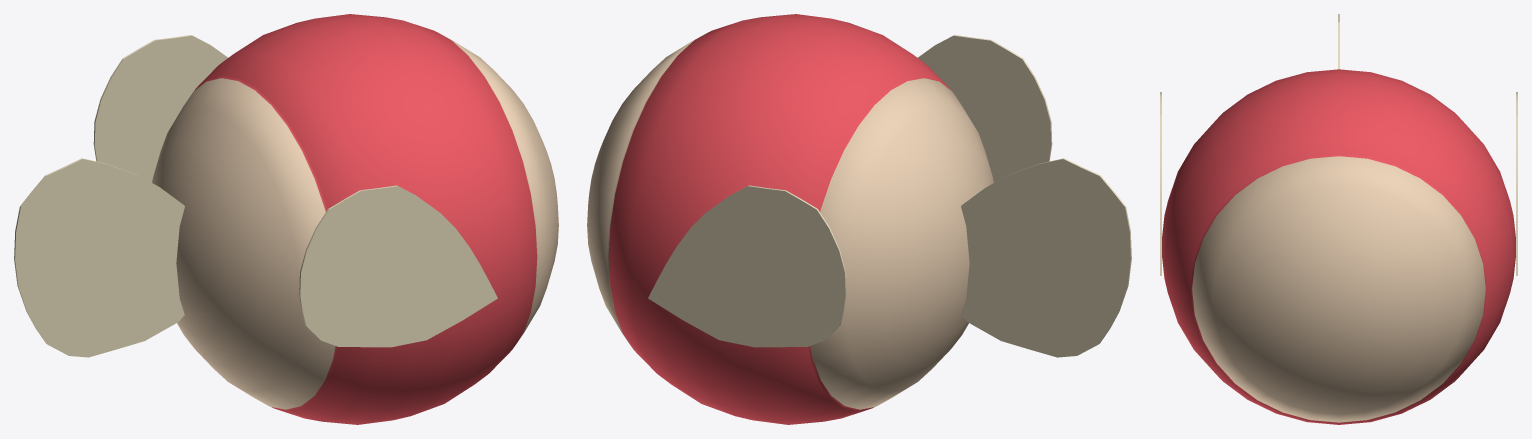
The model's file is kusozako01.fbx.
3 views of the same model, side by side, from view 1: azimuth 30°, elevation 25°; view 2: azimuth 150°, elevation 25°; view 3: azimuth 270°, elevation 25° (orthographic). The views are drawn at different scales.
Visible parts, largest first — view 1: Sphere, Cube, Cube.001, Cube.002; view 2: Sphere, Cube, Cube.002, Cube.001; view 3: Sphere, Cube.001, Cube.002.
Boxes of the visible parts, x1,y1,x2,y2 form: Sphere: (152, 14, 558, 424); Cube: (14, 158, 184, 357); Cube.001: (299, 185, 497, 347); Cube.002: (93, 35, 227, 182); Sphere: (587, 14, 993, 424); Cube: (961, 158, 1131, 357); Cube.002: (648, 185, 846, 347); Cube.001: (918, 35, 1052, 182); Sphere: (1162, 69, 1515, 424); Cube.001: (1160, 92, 1161, 275); Cube.002: (1516, 92, 1517, 275).
Bounding box in the file's own units: 291 × 200 × 201.
